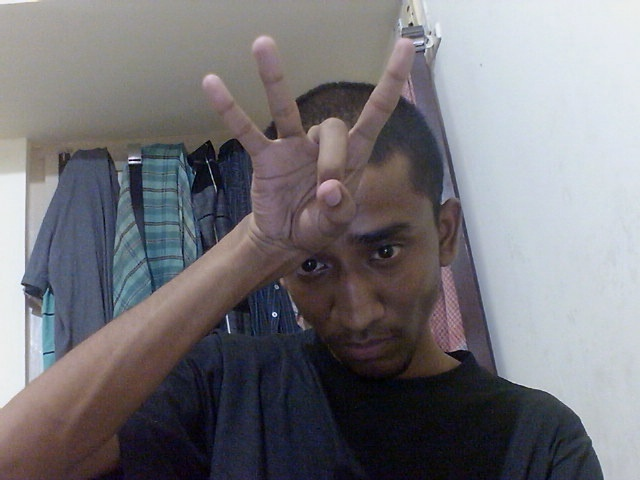hand: (194, 26, 418, 265)
